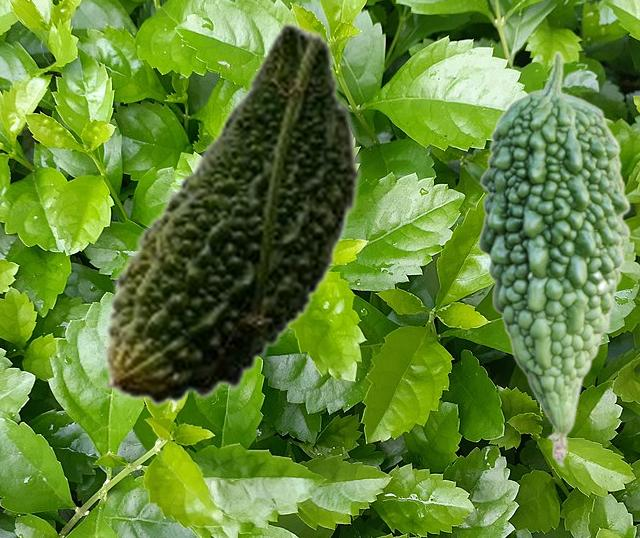ampalaya: (102, 21, 362, 406), (476, 50, 630, 467)
